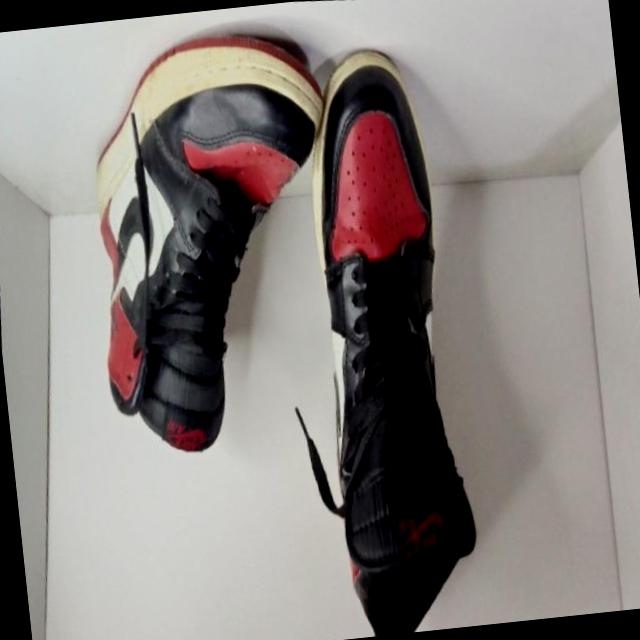nike_fake_jordan: (264, 33, 518, 640), (61, 6, 366, 470)
